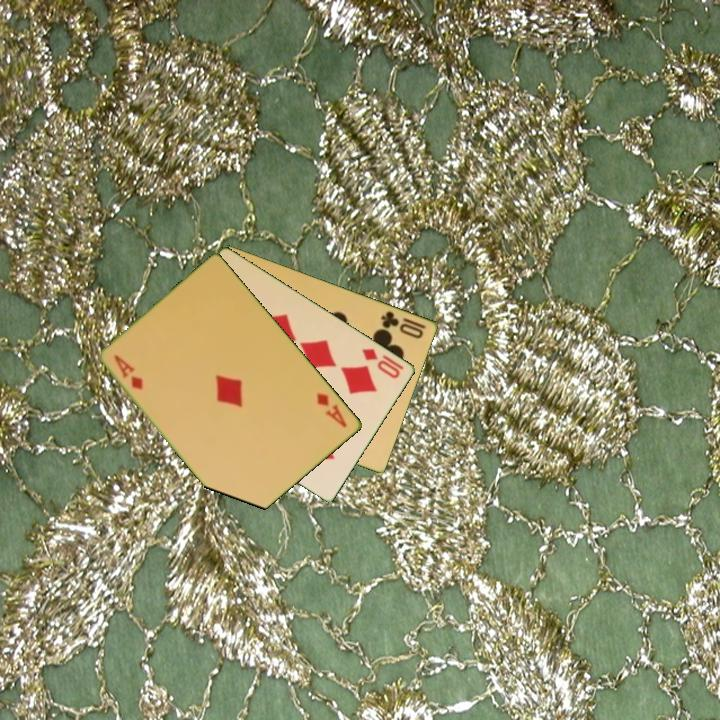10c: (378, 307, 429, 341)
10d: (358, 344, 404, 381)
Ad: (313, 389, 351, 430), (110, 351, 146, 393)
